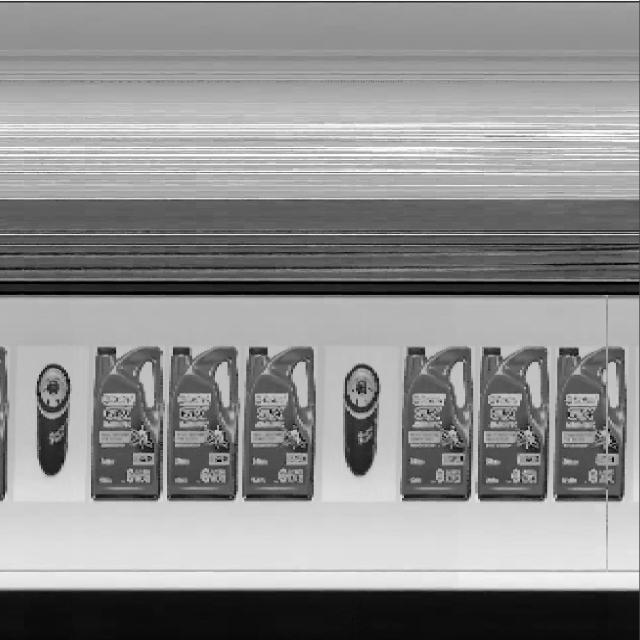motor_oil: (88, 340, 165, 508), (240, 341, 317, 503), (552, 341, 629, 500), (476, 338, 550, 502), (398, 344, 474, 502), (167, 340, 239, 500)
oil_filter: (338, 360, 384, 483), (32, 359, 78, 478)
